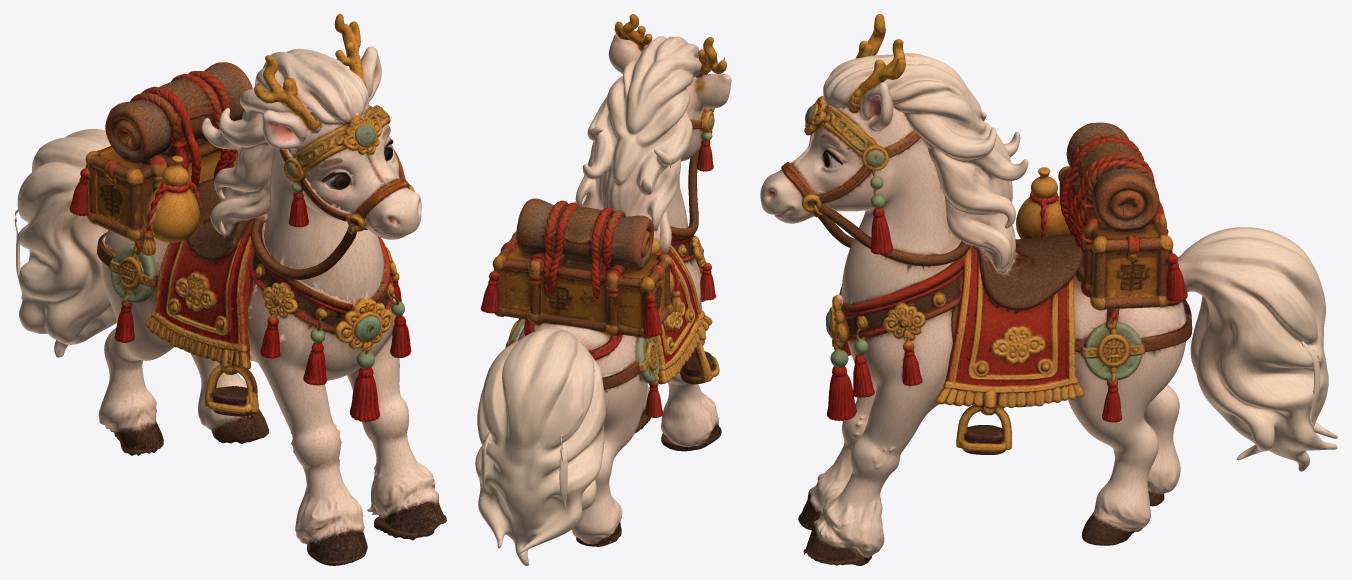
The model's file is decorative-plush-horse-optimized.glb.
3 renders of one model, left to right at view 1: azimuth 30°, elevation 25°; view 2: azimuth 150°, elevation 25°; view 3: azimuth 270°, elevation 25°, orthographic. The views are drawn at different scales.
Parts seen in each view (by area): view 1: tripo_node_7c6c0f1d-ed9e-4d75-94f1-0318a72e4ea7; view 2: tripo_node_7c6c0f1d-ed9e-4d75-94f1-0318a72e4ea7; view 3: tripo_node_7c6c0f1d-ed9e-4d75-94f1-0318a72e4ea7.
Part boxes in pixels (box(x1,y1,x2,y2)): tripo_node_7c6c0f1d-ed9e-4d75-94f1-0318a72e4ea7: box(14, 14, 446, 565); tripo_node_7c6c0f1d-ed9e-4d75-94f1-0318a72e4ea7: box(475, 14, 731, 565); tripo_node_7c6c0f1d-ed9e-4d75-94f1-0318a72e4ea7: box(760, 14, 1337, 565).
Size of the model in its own units: 0.4439 by 0.9478 by 0.98.
1 material, 1 textured.
